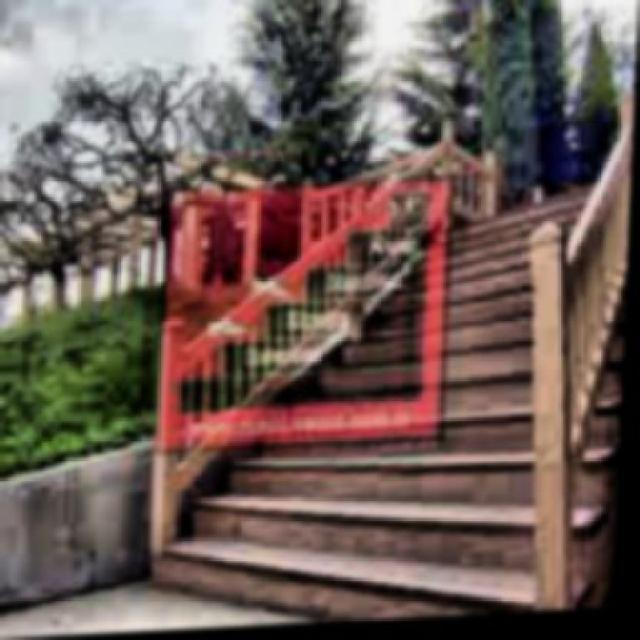stair: (180, 162, 631, 624)
